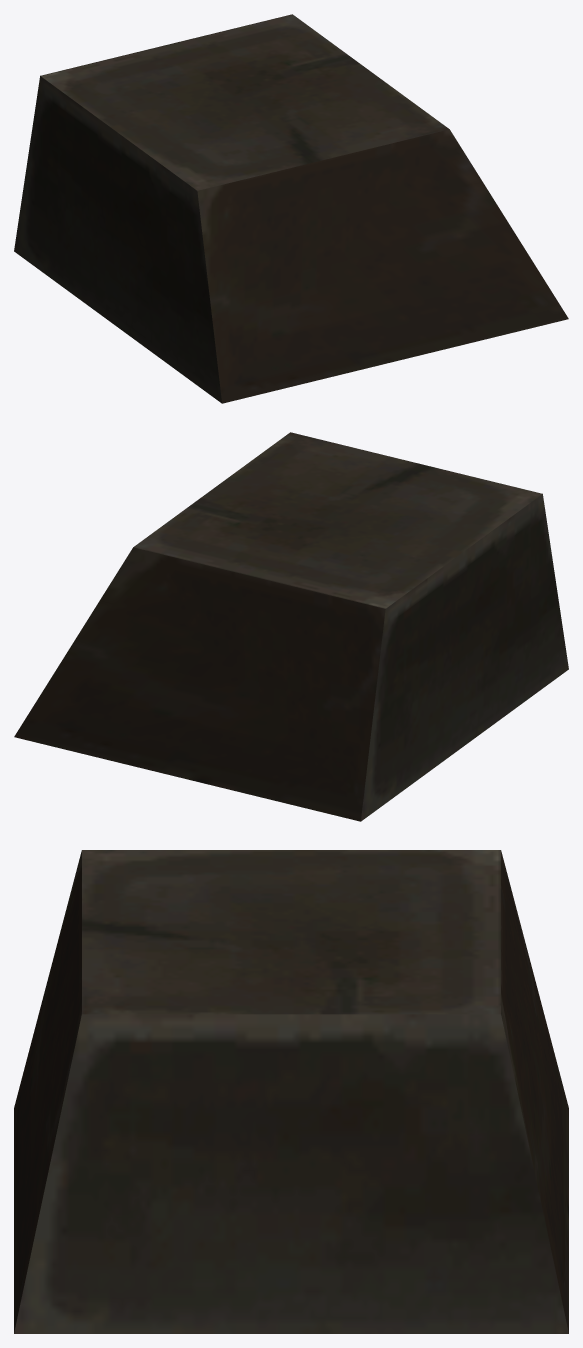
The model's file is fortress_cap_end_01.fbx.
3 renders of one model, top to bottom at view 1: azimuth 30°, elevation 25°; view 2: azimuth 150°, elevation 25°; view 3: azimuth 270°, elevation 25°, orthographic. The views are drawn at different scales.
Parts seen in each view (by area): view 1: fortress_tileset/Cap_01_mat; view 2: fortress_tileset/Cap_01_mat; view 3: fortress_tileset/Cap_01_mat.
Boxes of the visible parts, bbox=[...] form: fortress_tileset/Cap_01_mat: bbox=[14, 14, 568, 403]; fortress_tileset/Cap_01_mat: bbox=[14, 432, 568, 821]; fortress_tileset/Cap_01_mat: bbox=[14, 850, 568, 1333].
Bounding box in the file's own units: 1.58 × 0.8442 × 1.64.
